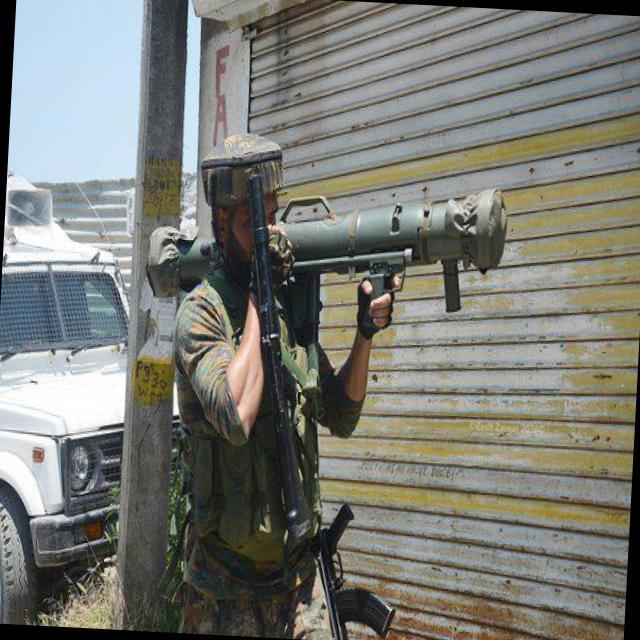rocket: (142, 171, 510, 318)
